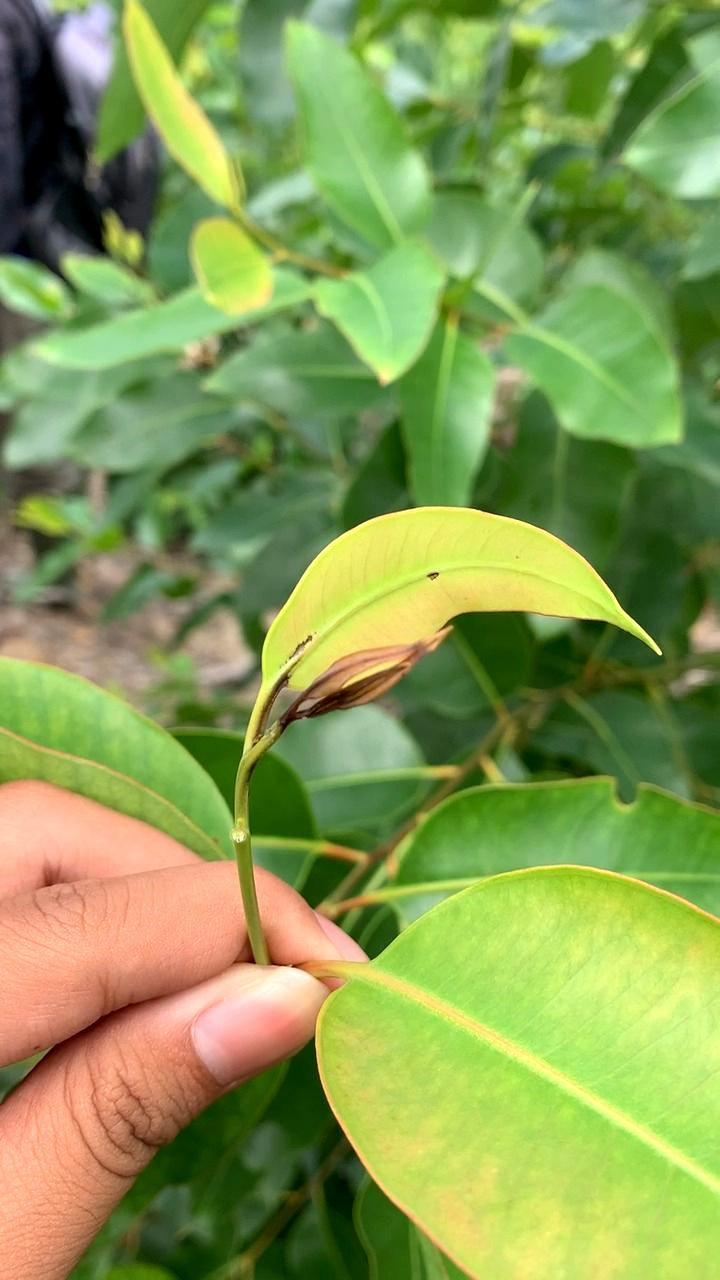Helopeltis-Withered Sprout: (276, 628, 455, 723)
